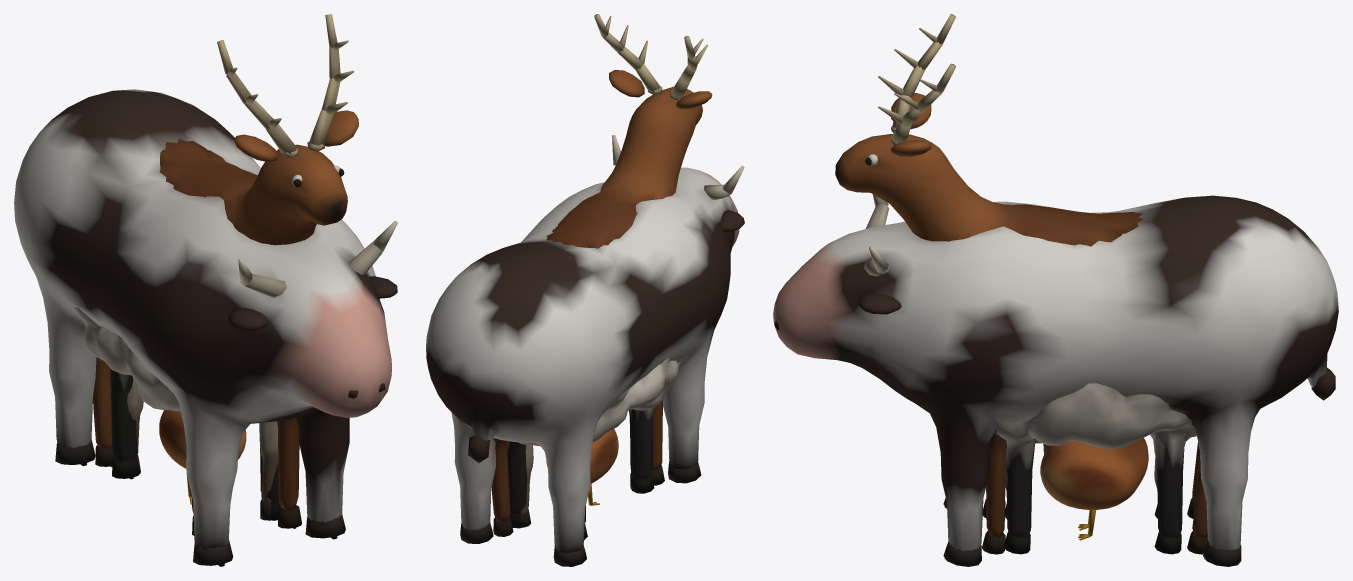
The model's file is animaux.glb.
The picture shows the model from 3 angles, left to right: view 1: azimuth 30°, elevation 25°; view 2: azimuth 150°, elevation 25°; view 3: azimuth 270°, elevation 25°; orthographic projection. The views are drawn at different scales.
Visible parts, largest first — view 1: A_vache, A_cerf, A_mouton, A_chevre, A_poule; view 2: A_vache, A_cerf, A_mouton, A_poule, A_chevre; view 3: A_vache, A_cerf, A_mouton, A_poule.
Boxes of the visible parts, x1=… form: A_vache: x1=14, y1=89, x2=397, y2=566; A_cerf: x1=93, y1=14, x2=358, y2=528; A_mouton: x1=73, y1=307, x2=280, y2=535; A_chevre: x1=127, y1=379, x2=278, y2=520; A_poule: x1=159, y1=410, x2=246, y2=504; A_vache: x1=426, y1=135, x2=744, y2=566; A_cerf: x1=491, y1=14, x2=712, y2=545; A_mouton: x1=507, y1=357, x2=681, y2=539; A_poule: x1=546, y1=429, x2=618, y2=505; A_chevre: x1=517, y1=417, x2=632, y2=527; A_vache: x1=773, y1=194, x2=1338, y2=566; A_cerf: x1=835, y1=14, x2=1208, y2=554; A_mouton: x1=996, y1=383, x2=1196, y2=554; A_poule: x1=1036, y1=438, x2=1148, y2=540.
Size of the model in its own units: 0.9858 by 2.32 by 2.4.
